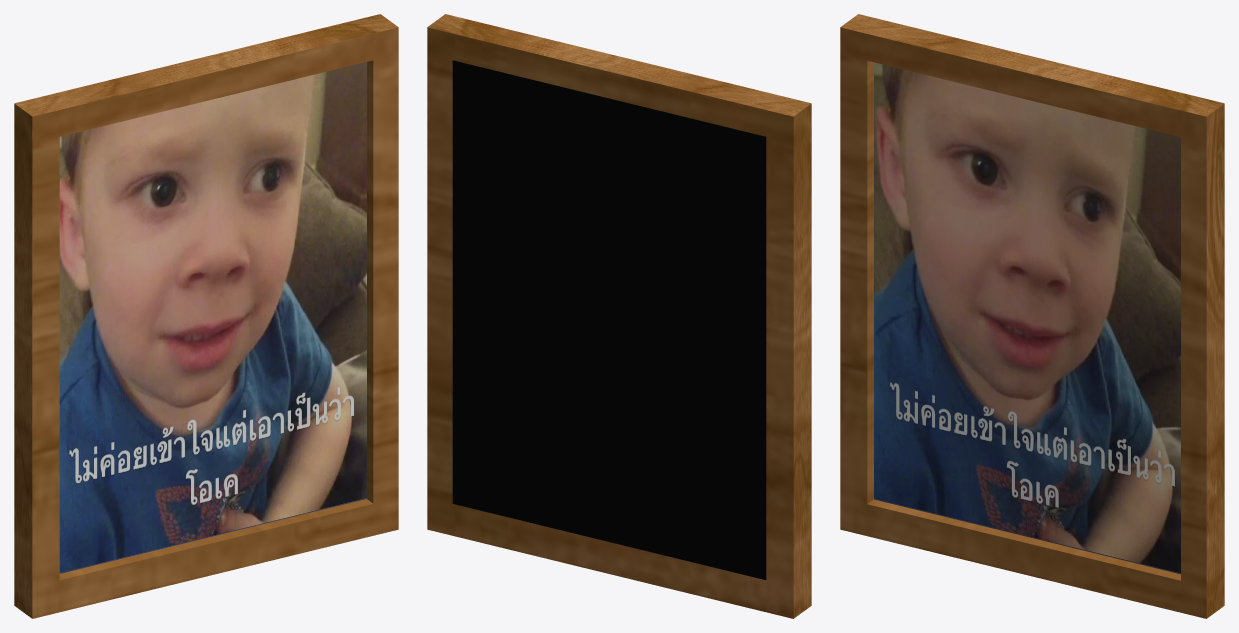
Rendered from picture frame2.fbx.
3 renders of one model, left to right at view 1: azimuth 30°, elevation 25°; view 2: azimuth 150°, elevation 25°; view 3: azimuth 330°, elevation 25°, orthographic.
Visible parts, largest first — view 1: Cube; view 2: Cube; view 3: Cube.
Part boxes in pixels (<box>): Cube: <box>14,14,398,618</box>; Cube: <box>427,14,811,618</box>; Cube: <box>840,14,1224,618</box>.
Size of the model in its own units: 29 by 38 by 2.5.
Materials: 3 (2 with a texture image).
